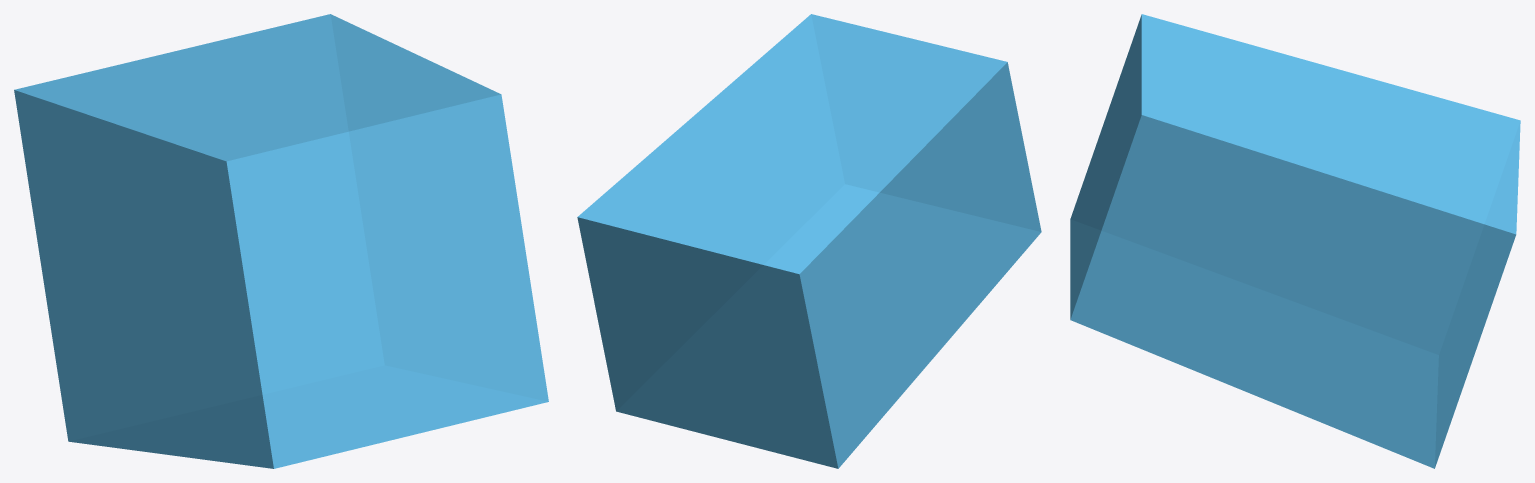
File: Event_421556567_HBrechit_12.fbx
The picture shows the model from 3 angles, left to right: view 1: azimuth 30°, elevation 25°; view 2: azimuth 150°, elevation 25°; view 3: azimuth 270°, elevation 25°; orthographic projection. The views are drawn at different scales.
Visible parts, largest first — view 1: Model; view 2: Model; view 3: Model.
Boxes of the visible parts, x1,y1,x2,y2 form: Model: (14, 14, 548, 468); Model: (577, 14, 1041, 468); Model: (1070, 14, 1520, 468).
Bounding box in the file's own units: 0.5189 × 0.6101 × 0.7619.
